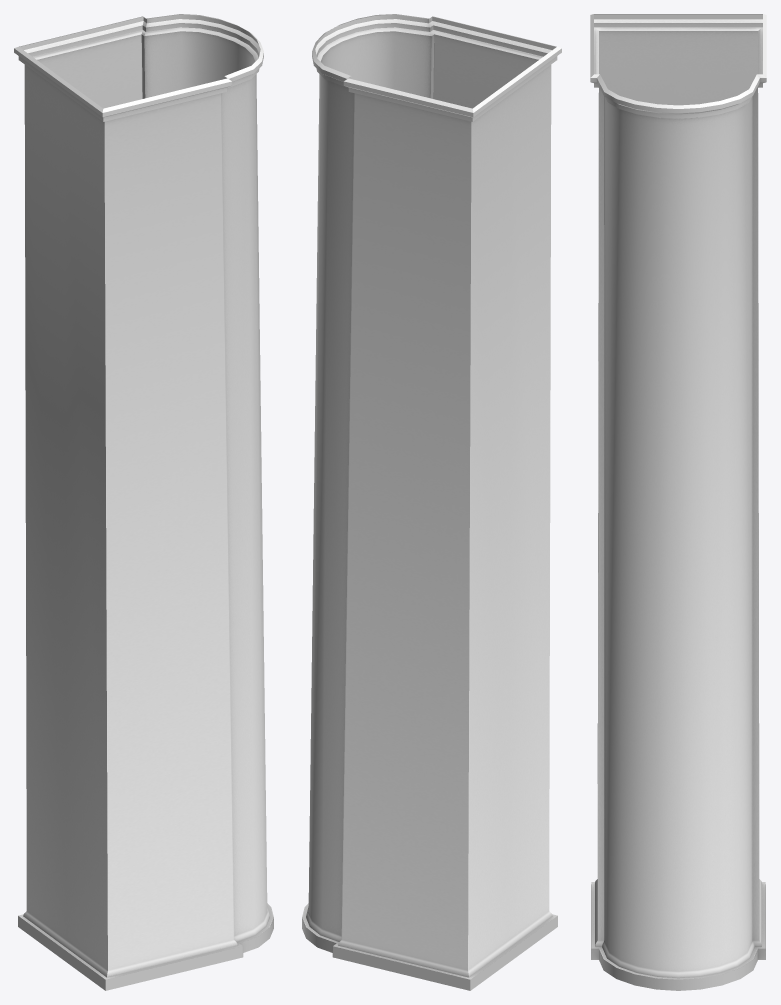
The model's file is portal-pillar.glb.
3 renders of one model, left to right at view 1: azimuth 30°, elevation 25°; view 2: azimuth 150°, elevation 25°; view 3: azimuth 270°, elevation 25°, orthographic.
Parts seen in each view (by area): view 1: portal-pillar; view 2: portal-pillar; view 3: portal-pillar.
Boxes of the visible parts, box(x1,y1,x2,y2) form: portal-pillar: box(14, 14, 273, 990); portal-pillar: box(302, 14, 561, 990); portal-pillar: box(590, 14, 766, 990).
Size of the model in its own units: 0.8641 by 3.55 by 0.6459.
1 material, 1 textured.
